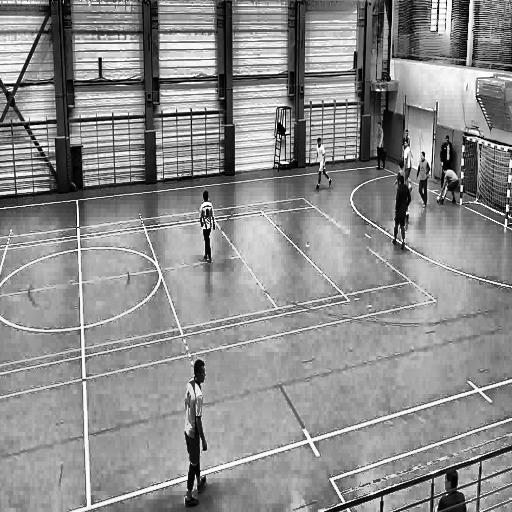ball: (436, 194, 442, 205)
player: (183, 358, 209, 508), (391, 177, 412, 253), (199, 188, 216, 265), (314, 136, 333, 194), (414, 149, 430, 212), (439, 164, 459, 206), (440, 132, 454, 185), (374, 122, 387, 174), (403, 135, 413, 195), (396, 158, 408, 192), (402, 128, 413, 161)
